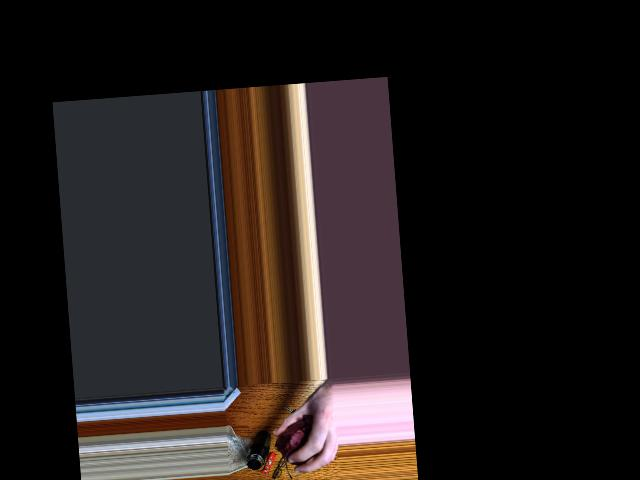onion: (276, 415, 318, 465)
